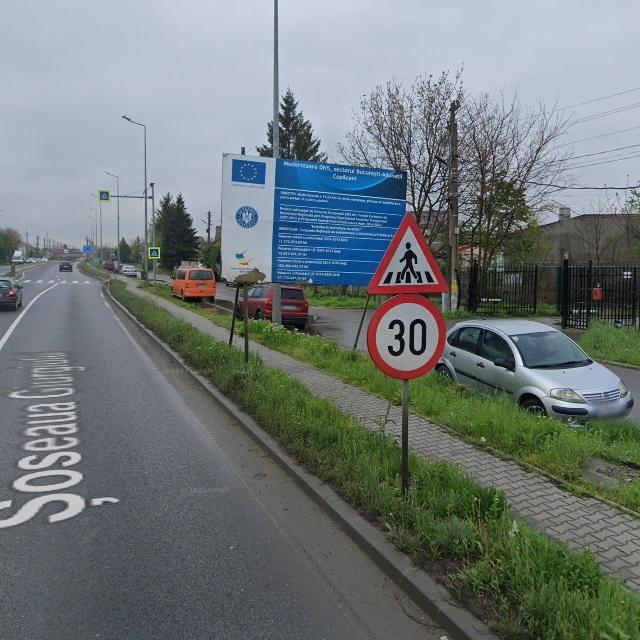forb_speed_over_30: (367, 297, 447, 379)
info_crosswalk: (145, 248, 160, 261), (99, 189, 109, 201)
warn_crosswalk: (364, 213, 451, 292)
